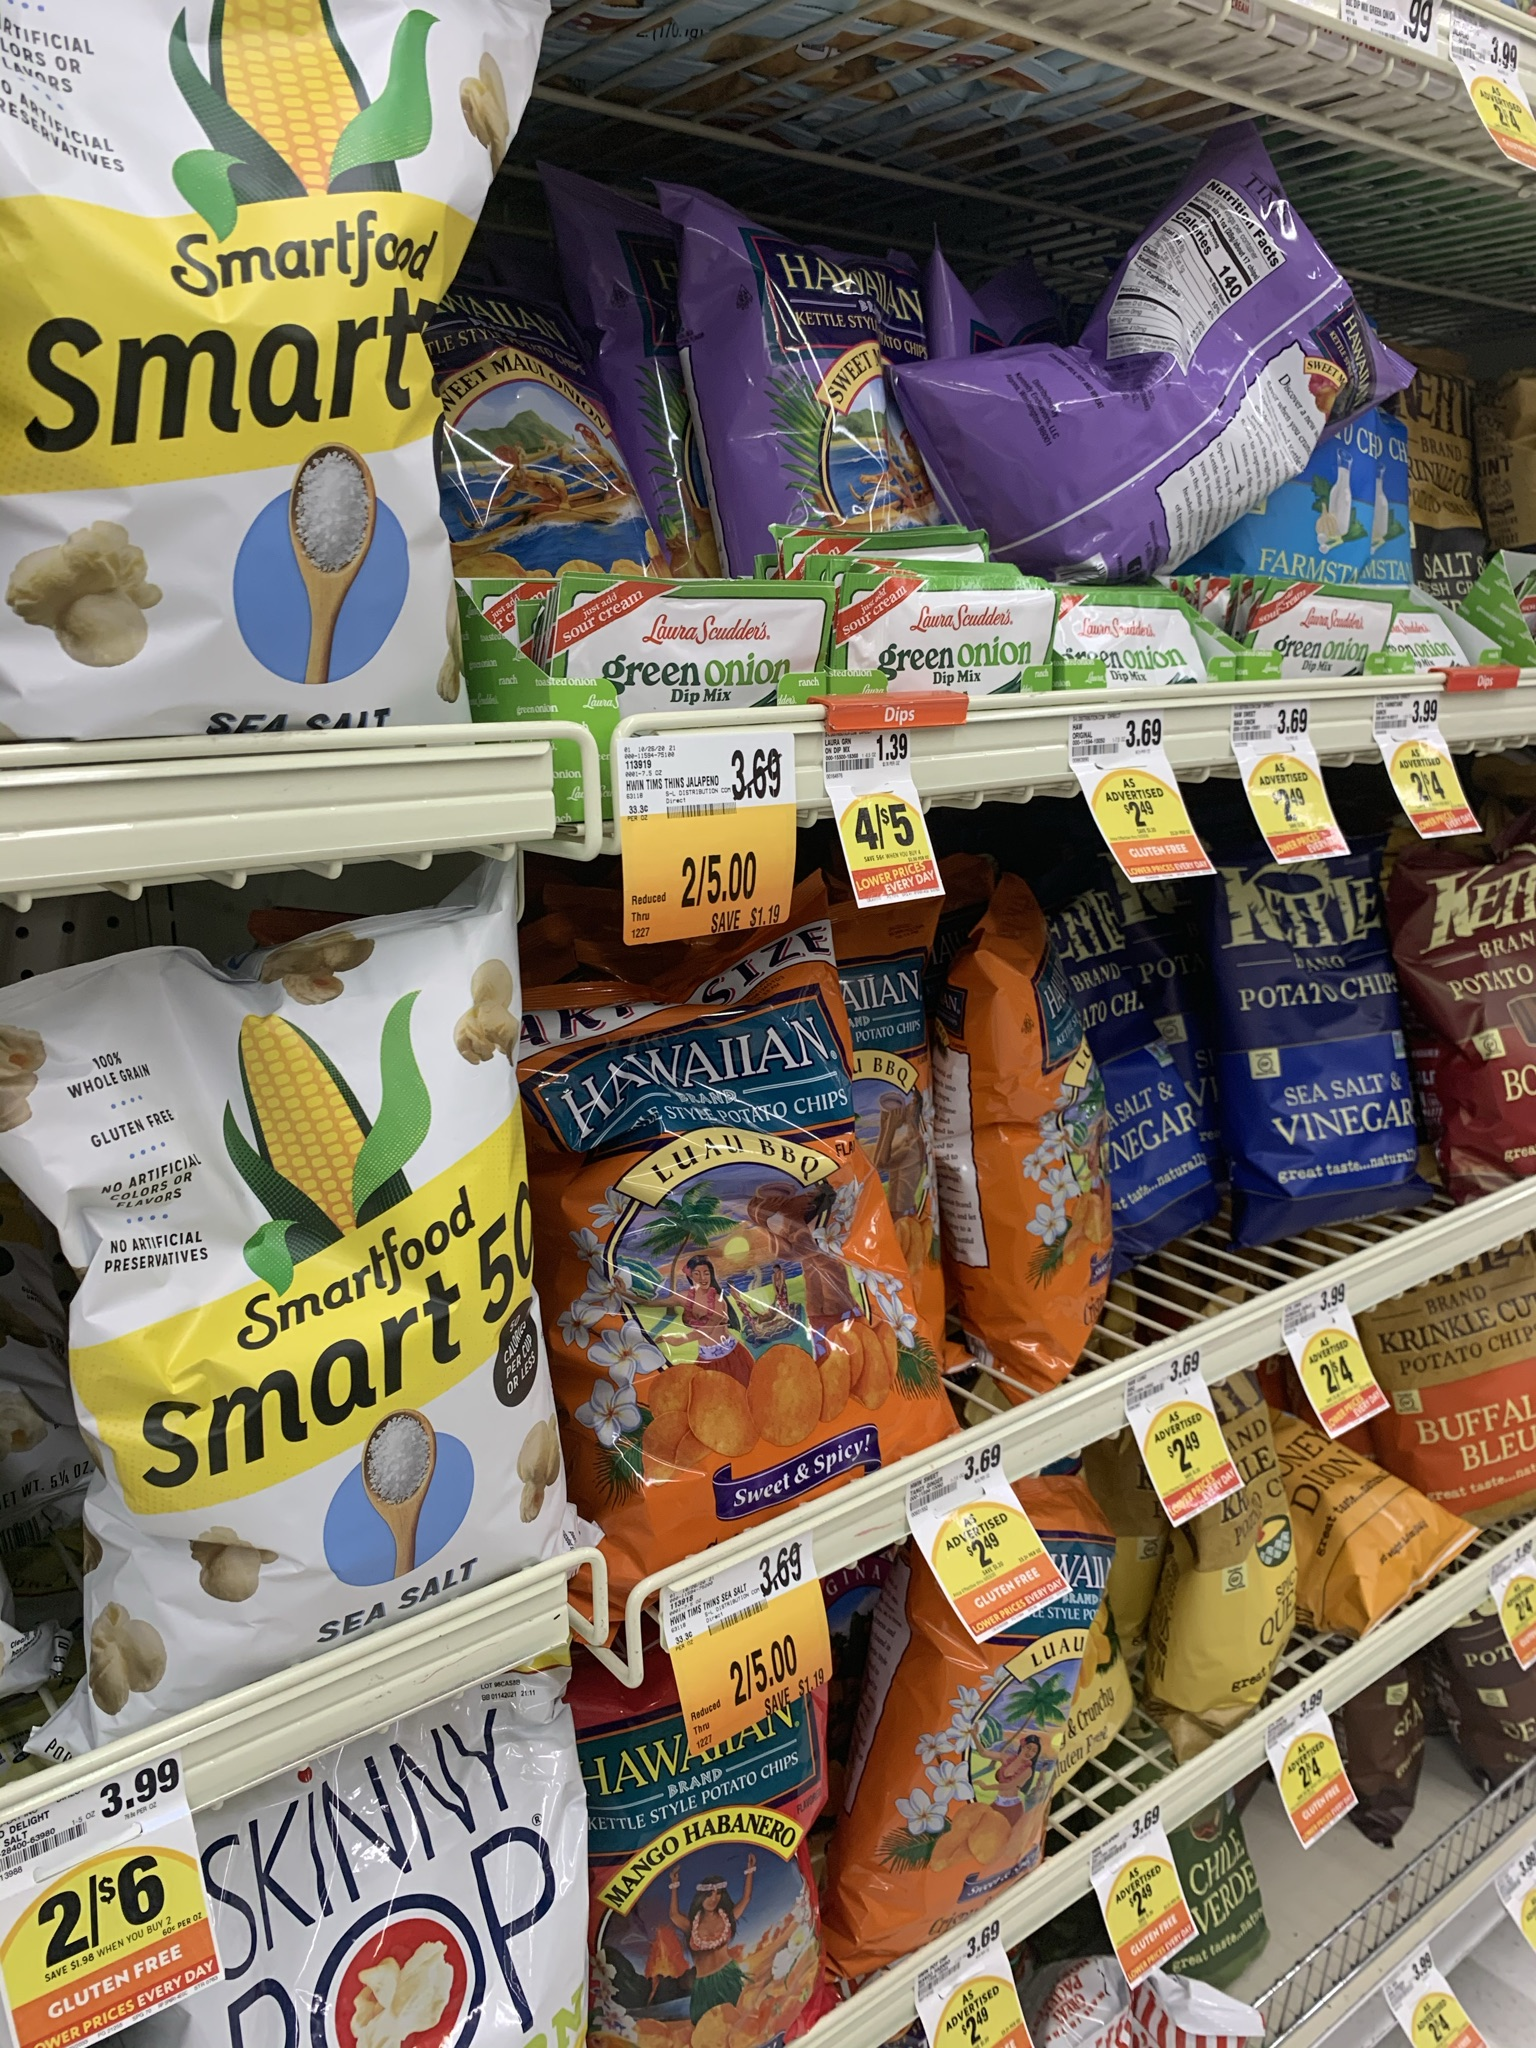hawaiian chips: (584, 1019, 871, 1419), (929, 1535, 1129, 1946), (757, 235, 958, 539)
kettle chips: (1229, 876, 1413, 1216), (1147, 1430, 1325, 1643), (1388, 1321, 1509, 1479)
smartfood chips: (24, 1009, 558, 1574), (52, 24, 470, 719)
